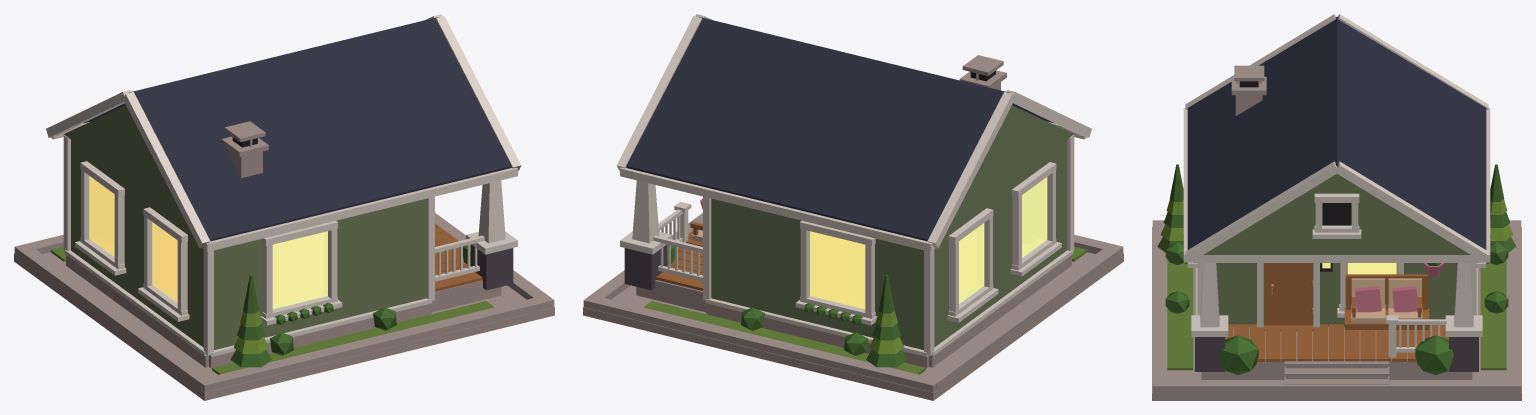
The model's file is bld.house-e.lod2.glb.
3 views of the same model, side by side, from view 1: azimuth 30°, elevation 25°; view 2: azimuth 150°, elevation 25°; view 3: azimuth 270°, elevation 25° (orthographic). The views are drawn at different scales.
Visible parts, largest first — view 1: roof, body, object 5, lightsFront; view 2: roof, body, object 5, lightsFront; view 3: roof, object 5, body, door_front, lightsFront.
Boxes of the visible parts, x1,y1,x2,y2 form: roof: [46, 14, 521, 251]; body: [63, 105, 517, 368]; object 5: [14, 161, 554, 400]; lightsFront: [89, 176, 327, 309]; roof: [616, 14, 1091, 251]; body: [620, 105, 1074, 368]; object 5: [583, 162, 1123, 400]; lightsFront: [810, 177, 1047, 309]; roof: [1183, 14, 1490, 262]; object 5: [1152, 164, 1521, 400]; body: [1191, 255, 1482, 384]; door_front: [1264, 263, 1313, 325]; lightsFront: [1322, 263, 1396, 274].
Size of the model in its own units: 8.5 by 5.45 by 8.
